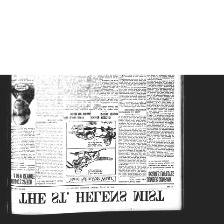news_paper: (7, 73, 185, 216)
